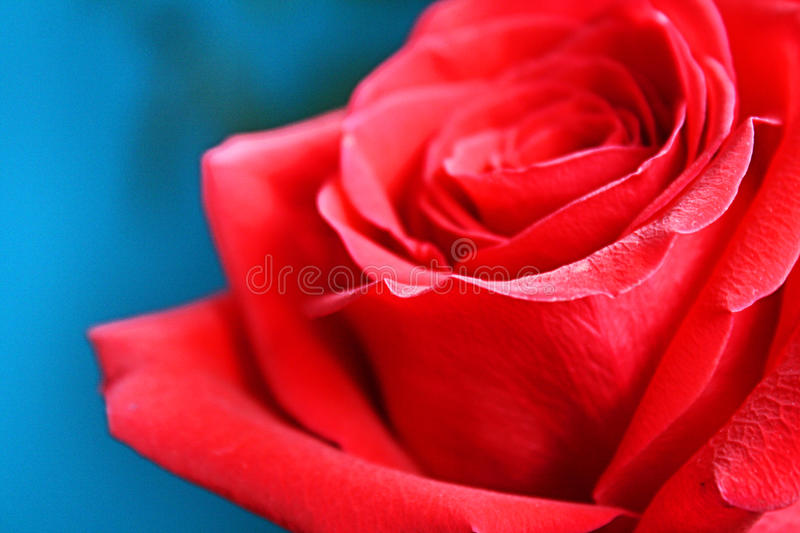RedRose: (96, 4, 800, 533)
